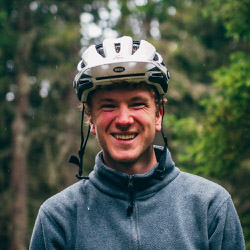helmet: (72, 36, 170, 163)
